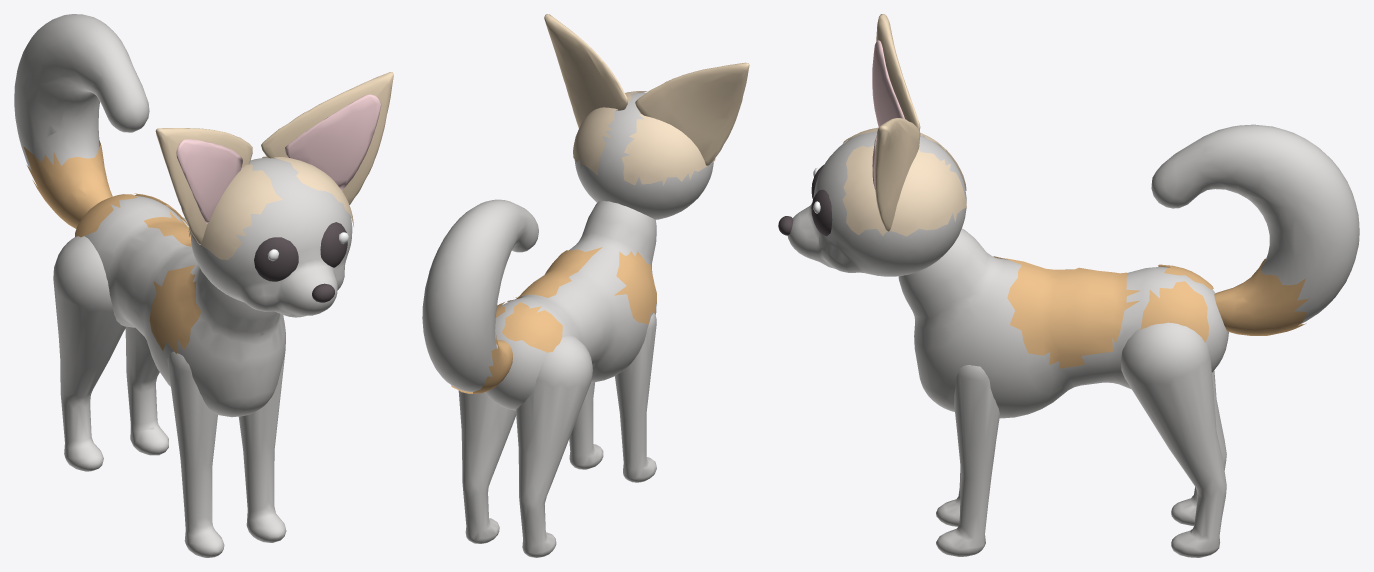
File: Zukzon.fbx
3 views of the same model, side by side, from view 1: azimuth 30°, elevation 25°; view 2: azimuth 150°, elevation 25°; view 3: azimuth 270°, elevation 25° (orthographic). The views are drawn at different scales.
Parts seen in each view (by area): view 1: Body, Tail, Head, BackRightLeg, FrontRightLeg, BodyPatches, FaceCream, LeftEarInner, FrontLeftLeg, TailBand, LeftEar, BackLeftLeg (+4 smaller); view 2: Body, Tail, BackRightLeg, RightEar, Head, FaceCream, BodyPatches, BackLeftLeg, LeftEar, FrontRightLeg, FrontLeftLeg, TailBand; view 3: Body, Tail, BackLeftLeg, BodyPatches, Head, FaceCream, FrontLeftLeg, TailBand, LeftEar, RightEar, RightEarInner, BackRightLeg (+1 smaller).
Boxes of the visible parts, x1,y1,x2,y2 form: Body: [85, 195, 285, 417]; Tail: [14, 14, 149, 170]; Head: [190, 157, 352, 317]; BackRightLeg: [53, 236, 125, 471]; FrontRightLeg: [167, 351, 224, 557]; BodyPatches: [75, 193, 201, 353]; FaceCream: [188, 156, 353, 259]; LeftEarInner: [285, 94, 381, 190]; FrontLeftLeg: [238, 349, 286, 542]; TailBand: [23, 140, 112, 228]; LeftEar: [261, 72, 393, 204]; BackLeftLeg: [125, 217, 188, 455]; Body: [484, 201, 656, 410]; Tail: [422, 199, 538, 391]; BackRightLeg: [516, 335, 592, 557]; RightEar: [635, 62, 749, 166]; Head: [574, 92, 713, 219]; FaceCream: [573, 91, 715, 185]; BodyPatches: [496, 247, 656, 352]; BackLeftLeg: [458, 390, 516, 543]; LeftEar: [544, 14, 627, 128]; FrontRightLeg: [615, 313, 656, 482]; FrontLeftLeg: [569, 382, 603, 469]; TailBand: [451, 335, 512, 393]; Body: [898, 228, 1228, 418]; Tail: [1151, 124, 1359, 324]; BackLeftLeg: [1120, 322, 1226, 557]; BodyPatches: [993, 256, 1213, 368]; Head: [787, 131, 966, 276]; FaceCream: [842, 127, 966, 236]; FrontLeftLeg: [936, 365, 999, 556]; TailBand: [1214, 258, 1308, 335]; LeftEar: [874, 118, 920, 231]; RightEar: [876, 14, 920, 130]; RightEarInner: [872, 40, 904, 127]; BackRightLeg: [1171, 370, 1226, 526].
Bounding box in the file's own units: 1.22 × 2.34 × 2.63.
